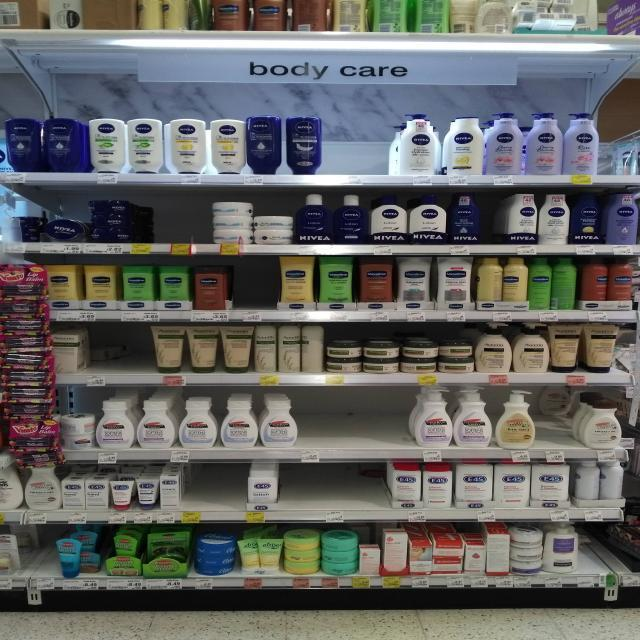Imprecise: (536, 372, 587, 452)
